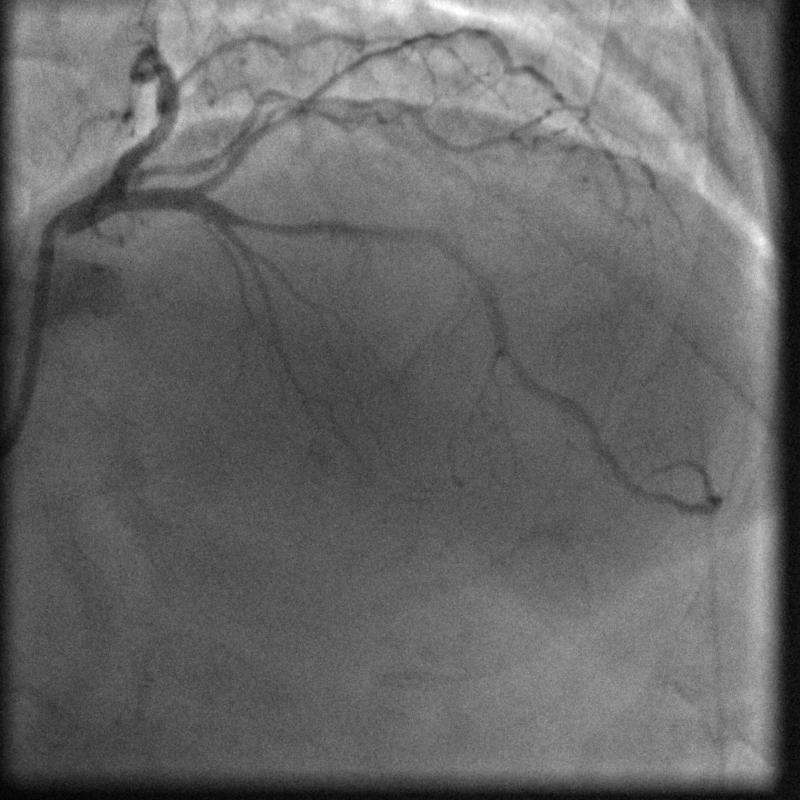Stenosis: (254, 202, 311, 241)
